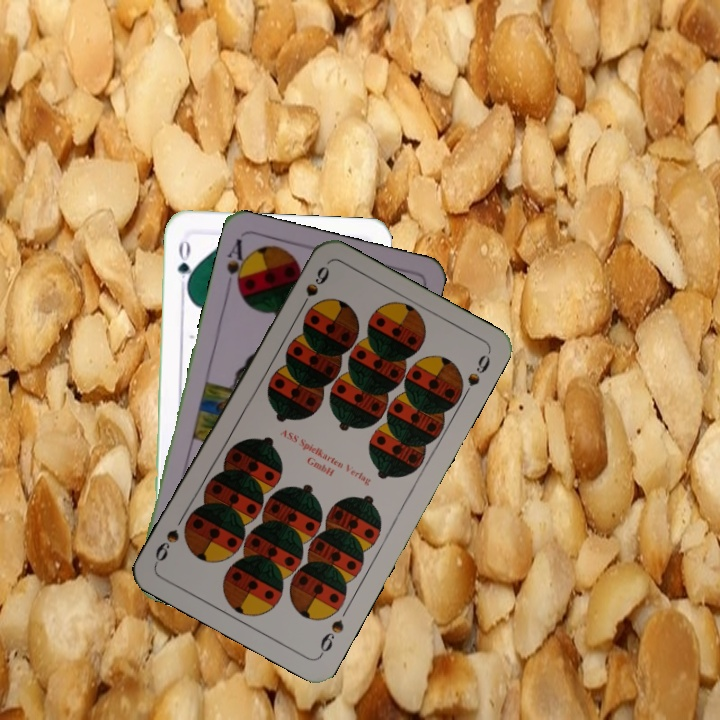GO: (173, 235, 196, 294)
S9: (294, 262, 333, 315), (315, 616, 347, 659)
SA: (222, 234, 252, 295)
